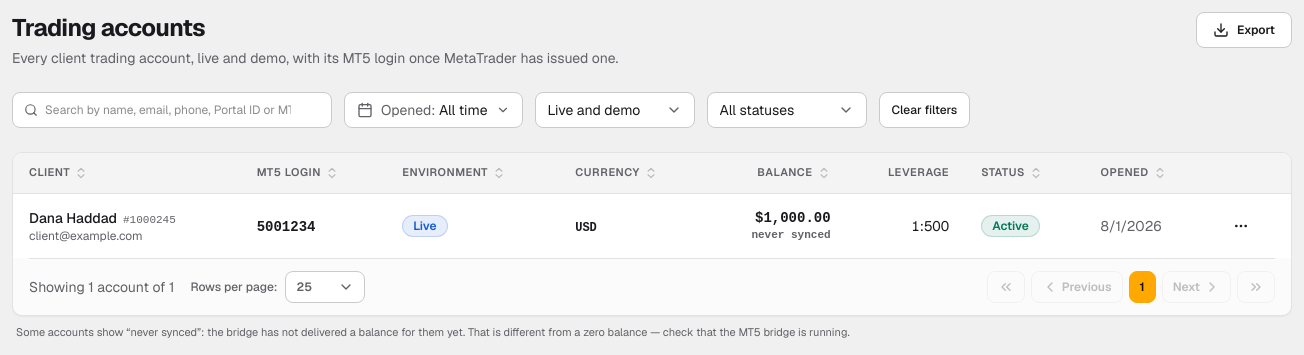
Test: moving money on a trading account › offers one money action, and no dealer balance item
Check: the text "client@example.com" is shown, box [29,228,143,244]
Click the button named "actions for account".
click(1241, 226)  # box [1225,210,1257,242]
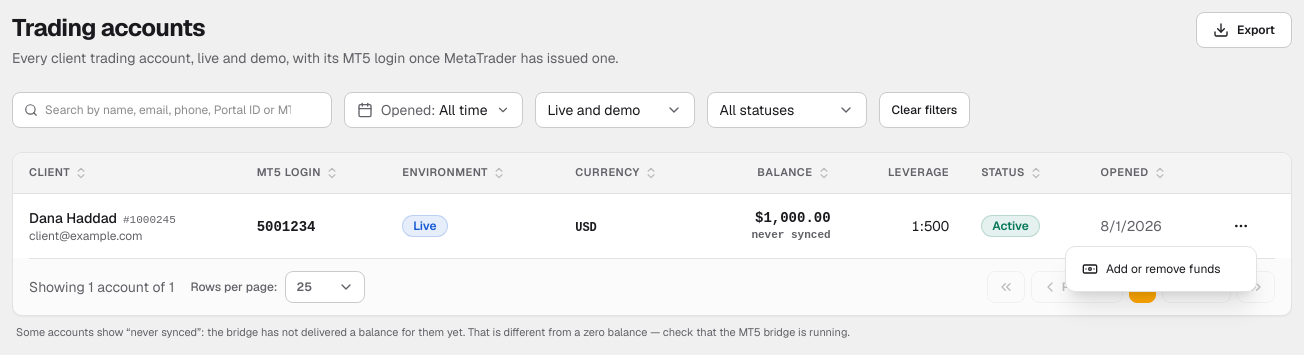
Check: the text "Add or remove funds" is shown, box [1106,261,1220,277]
